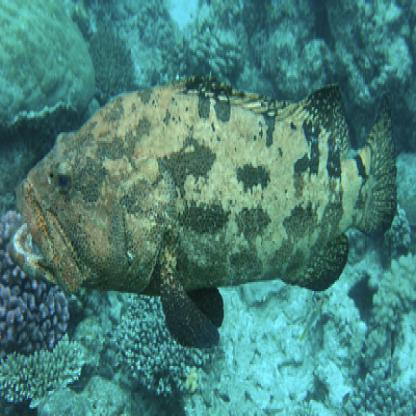Serranidae -Groupers-: (11, 69, 403, 347)
